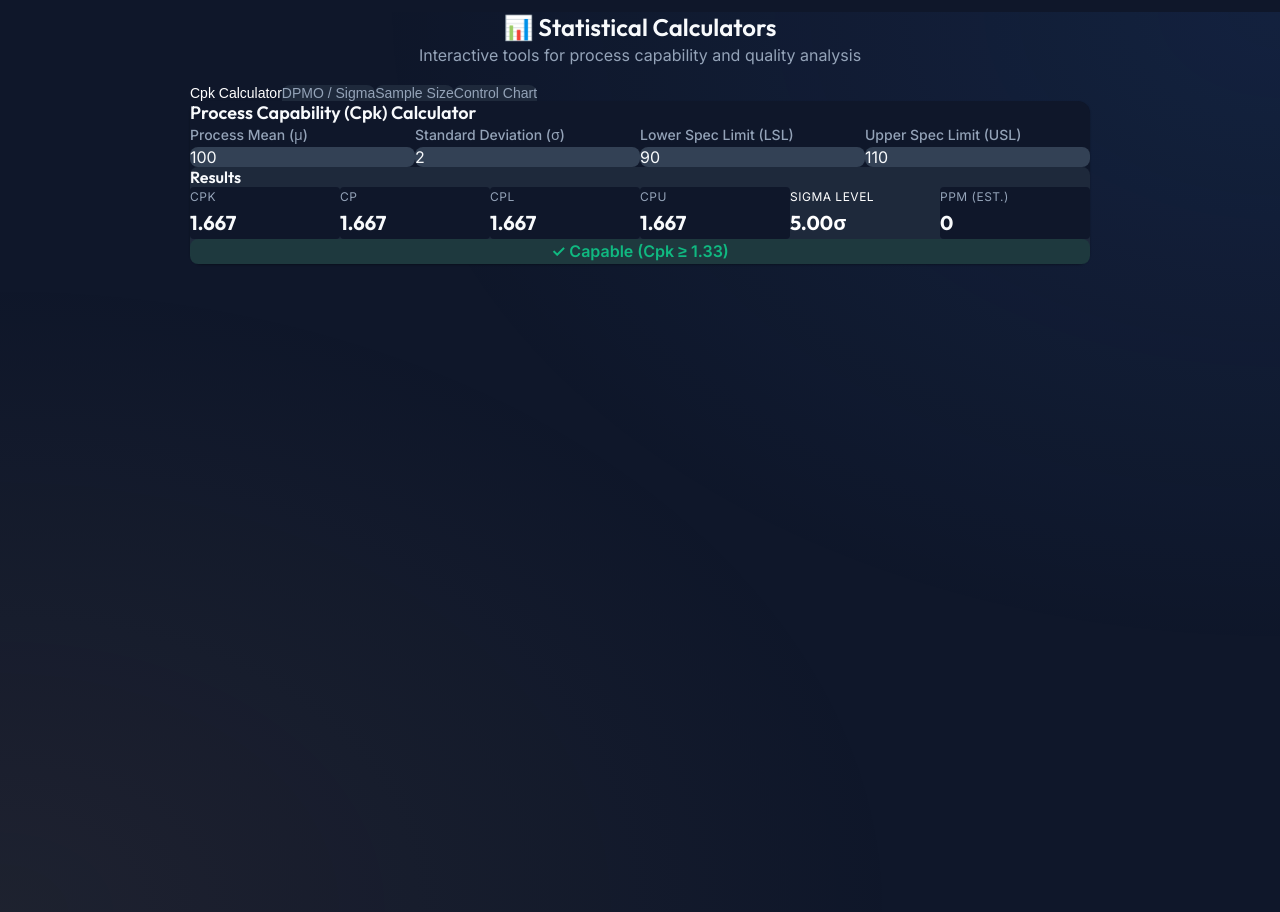
Test: StatCalculators › switches to Control Chart calculator when tab clicked
Click the button "Control Chart" at [495, 93], box [454,85,537,101]
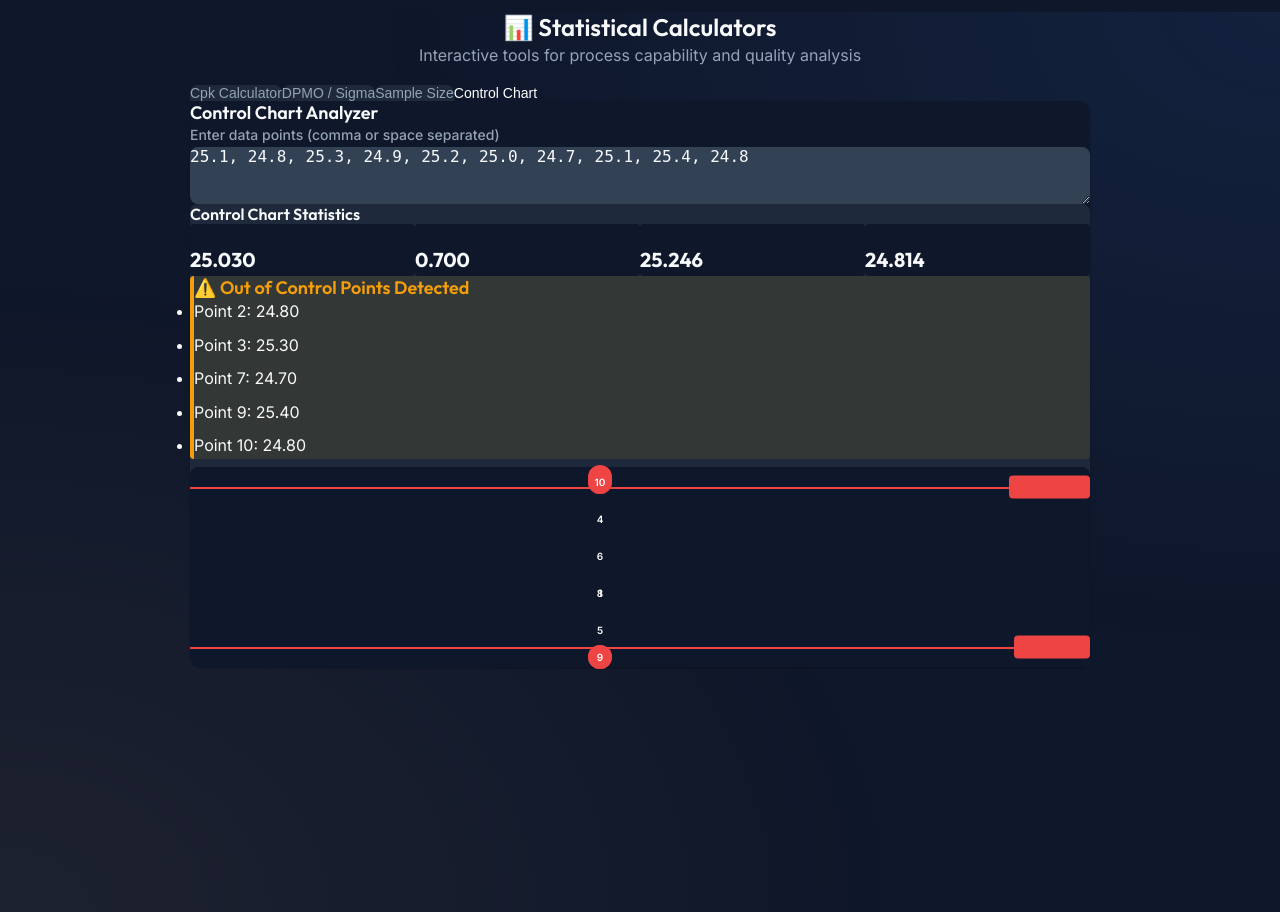
Now the heading "Control Chart Analyzer" is shown, box [190,101,378,124]
